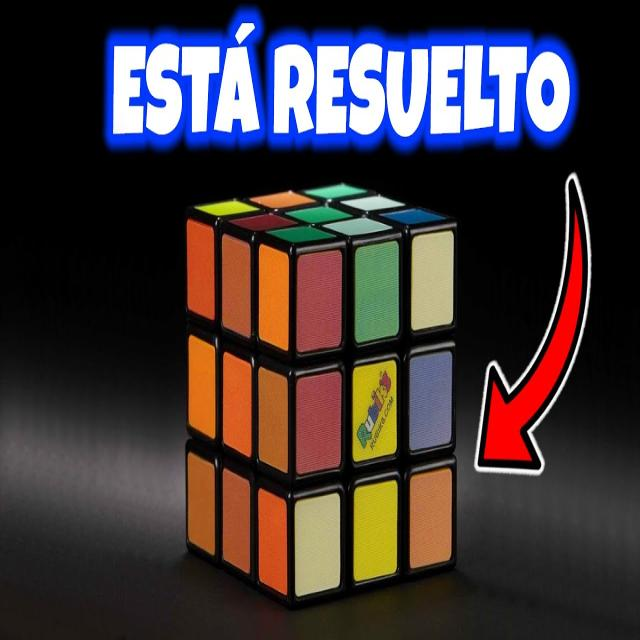Cubo-No-resuelto: (184, 185, 458, 607)
